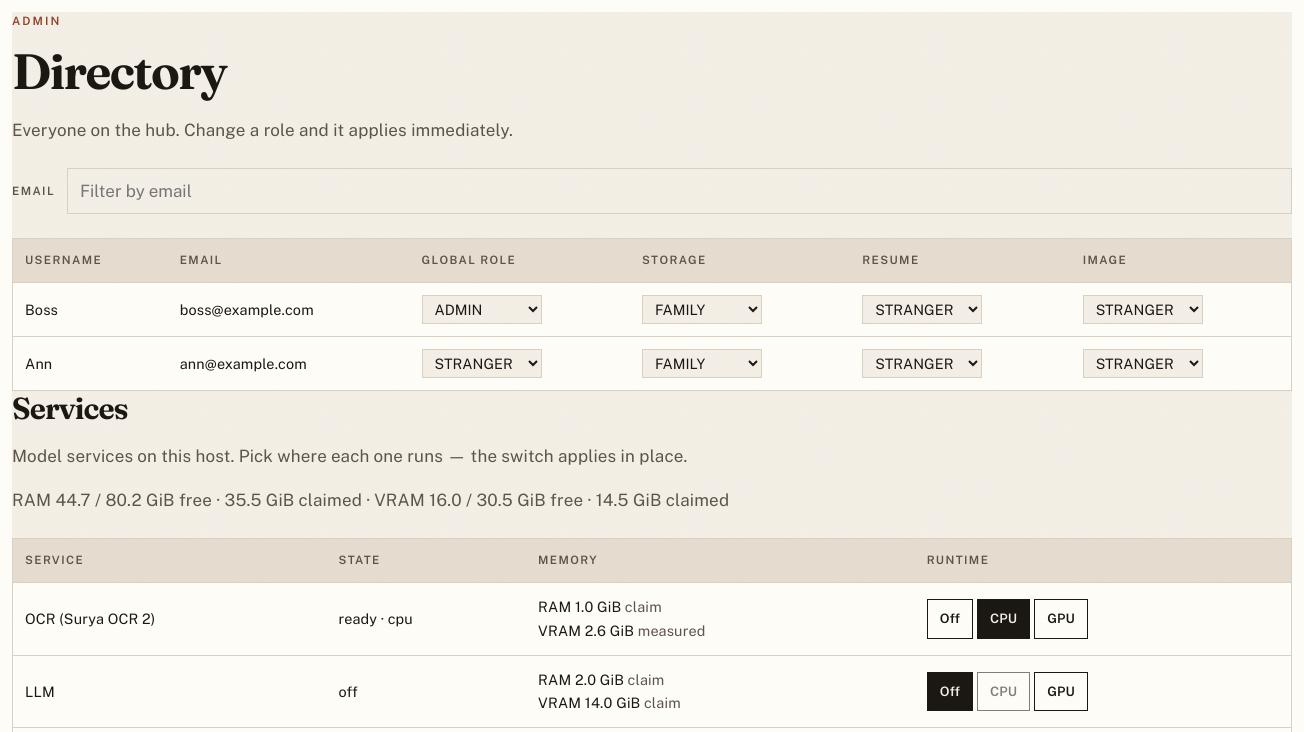
Test: Admin › shows a forbidden error from User-Service without changing the select
Expected: the text "Ann" is shown, 13,337 -> 168,390
Select "FAMILY" in the dropdown named "Site role for Ann" at (482,364), box 422,349 -> 542,378
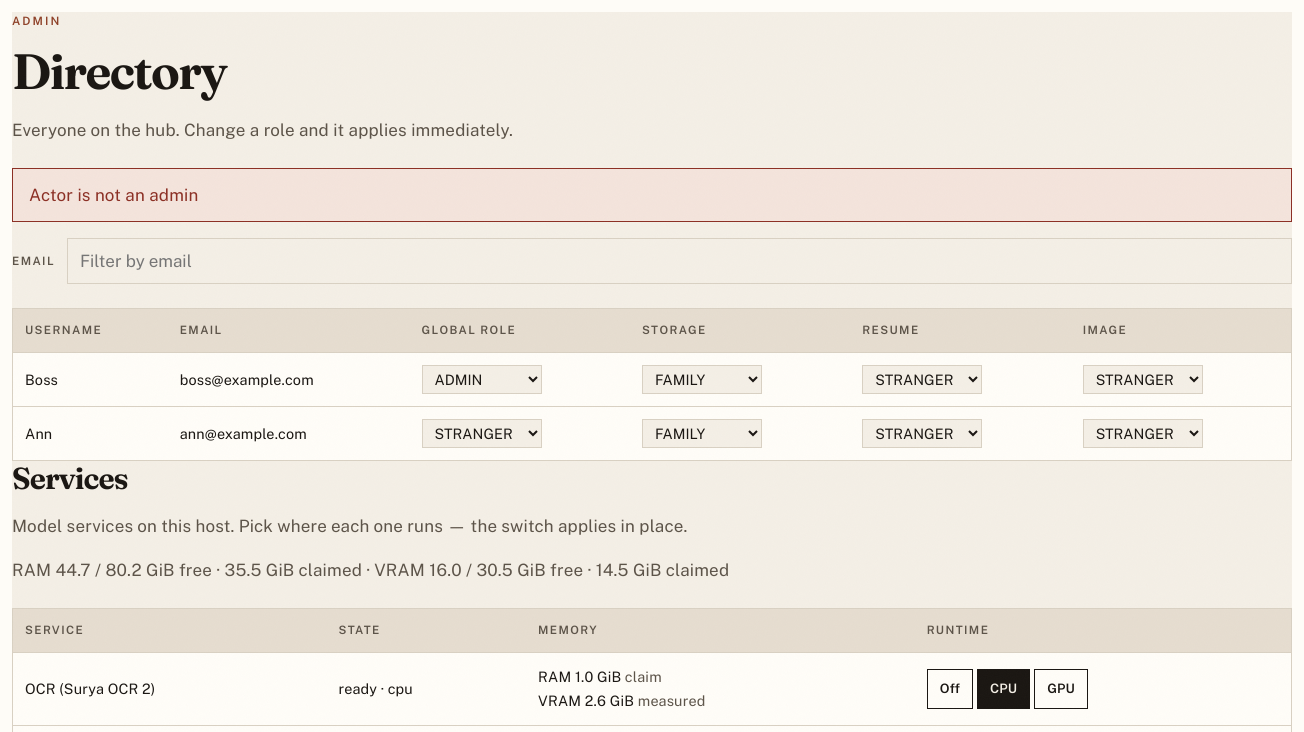
Now the text "Actor is not an admin" is shown, box 12,168 -> 1292,222
